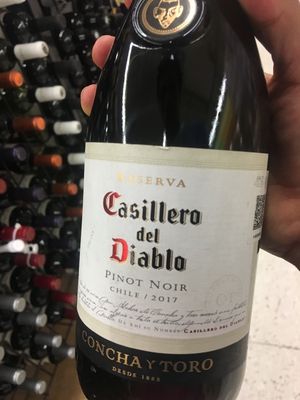casillero del diablo pinot noir: (73, 27, 292, 400)
